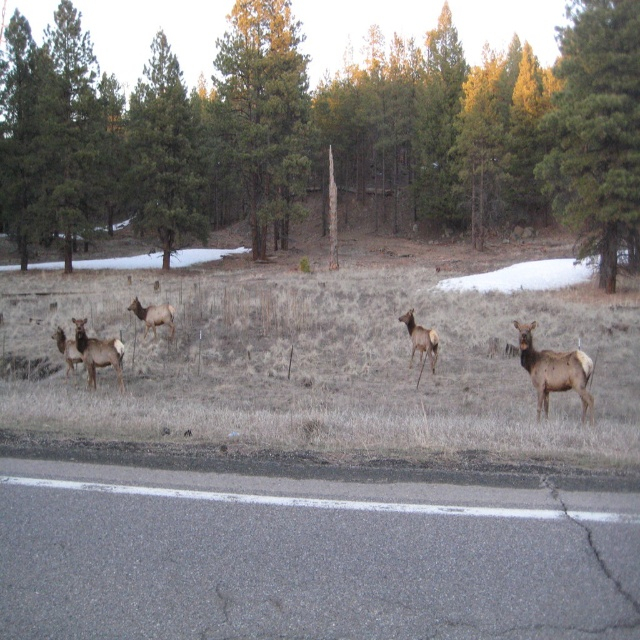Deer: (514, 321, 595, 415), (72, 318, 124, 384), (396, 308, 438, 384), (129, 299, 176, 339), (52, 328, 82, 381)
